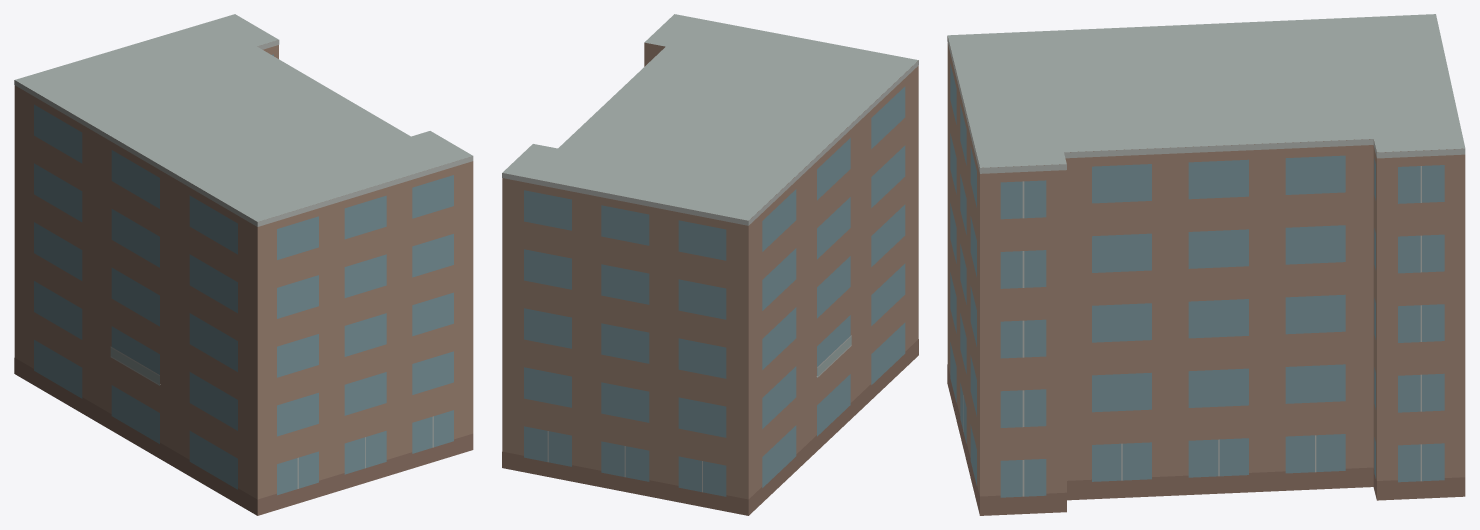
The model's file is survey-upis-32755197.glb.
3 views of the same model, side by side, from view 1: azimuth 30°, elevation 25°; view 2: azimuth 150°, elevation 25°; view 3: azimuth 270°, elevation 25° (orthographic). The views are drawn at different scales.
Visible parts, largest first — view 1: survey-upis-32755197.tmp; view 2: survey-upis-32755197.tmp; view 3: survey-upis-32755197.tmp.
Boxes of the visible parts, <box> form: survey-upis-32755197.tmp: <box>14,14,473,515</box>; survey-upis-32755197.tmp: <box>502,14,918,515</box>; survey-upis-32755197.tmp: <box>947,14,1465,515</box>.
Bounding box in the file's own units: 13.38 × 14.1 × 19.03.
